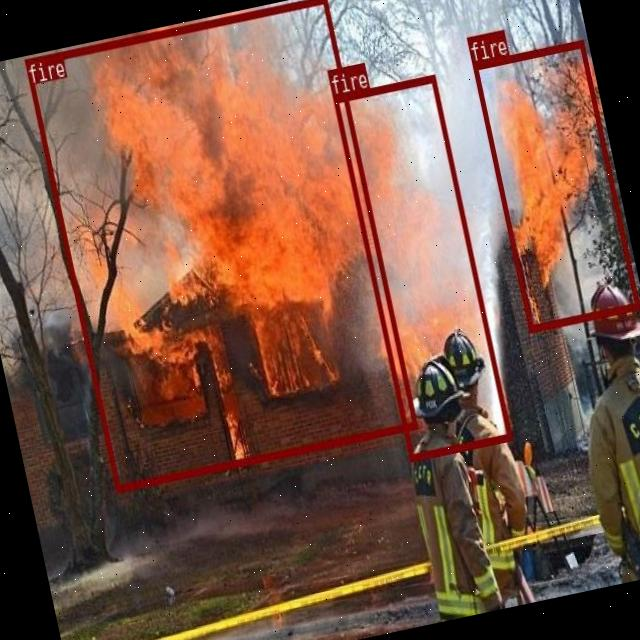fire: (23, 0, 416, 490), (332, 73, 510, 460), (472, 40, 640, 332)
